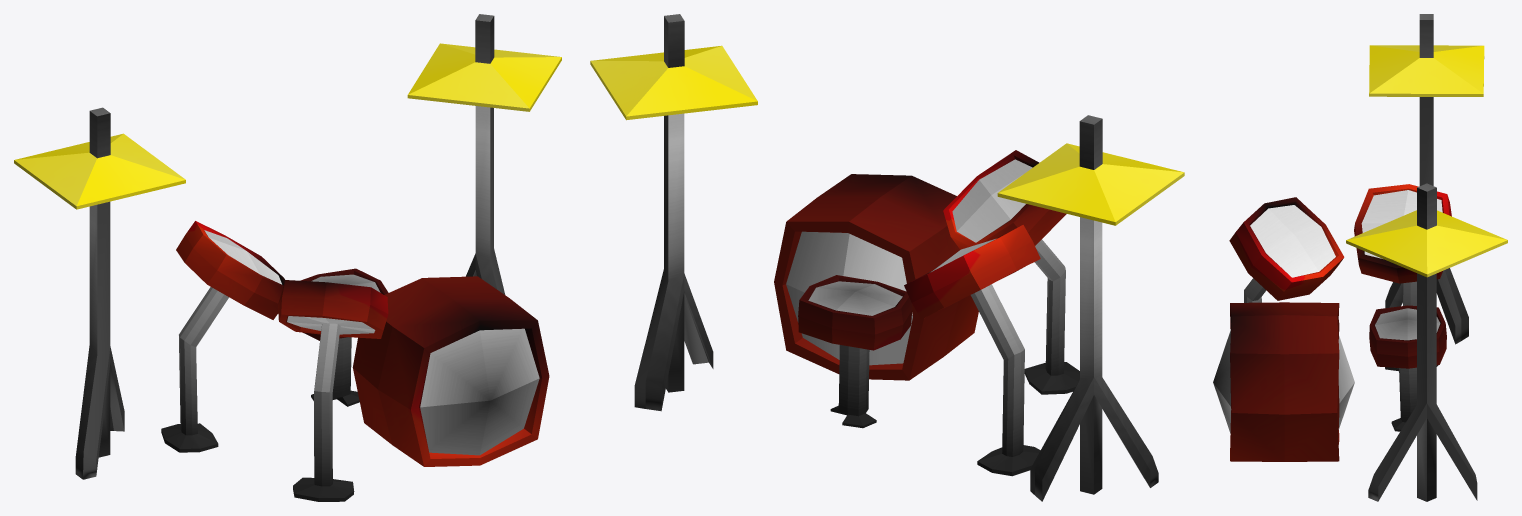
File: Bateria.fbx
3 renders of one model, left to right at view 1: azimuth 30°, elevation 25°; view 2: azimuth 150°, elevation 25°; view 3: azimuth 270°, elevation 25°, orthographic. The views are drawn at different scales.
Parts seen in each view (by area): view 1: Bateria; view 2: Bateria; view 3: Bateria.
Part boxes in pixels (x1,y1,x2,y2): Bateria: (14, 14, 561, 501); Bateria: (590, 14, 1184, 501); Bateria: (1213, 14, 1507, 501).
Bounding box in the file's own units: 7.4 × 4.69 × 4.03.
1 material, 1 textured.
